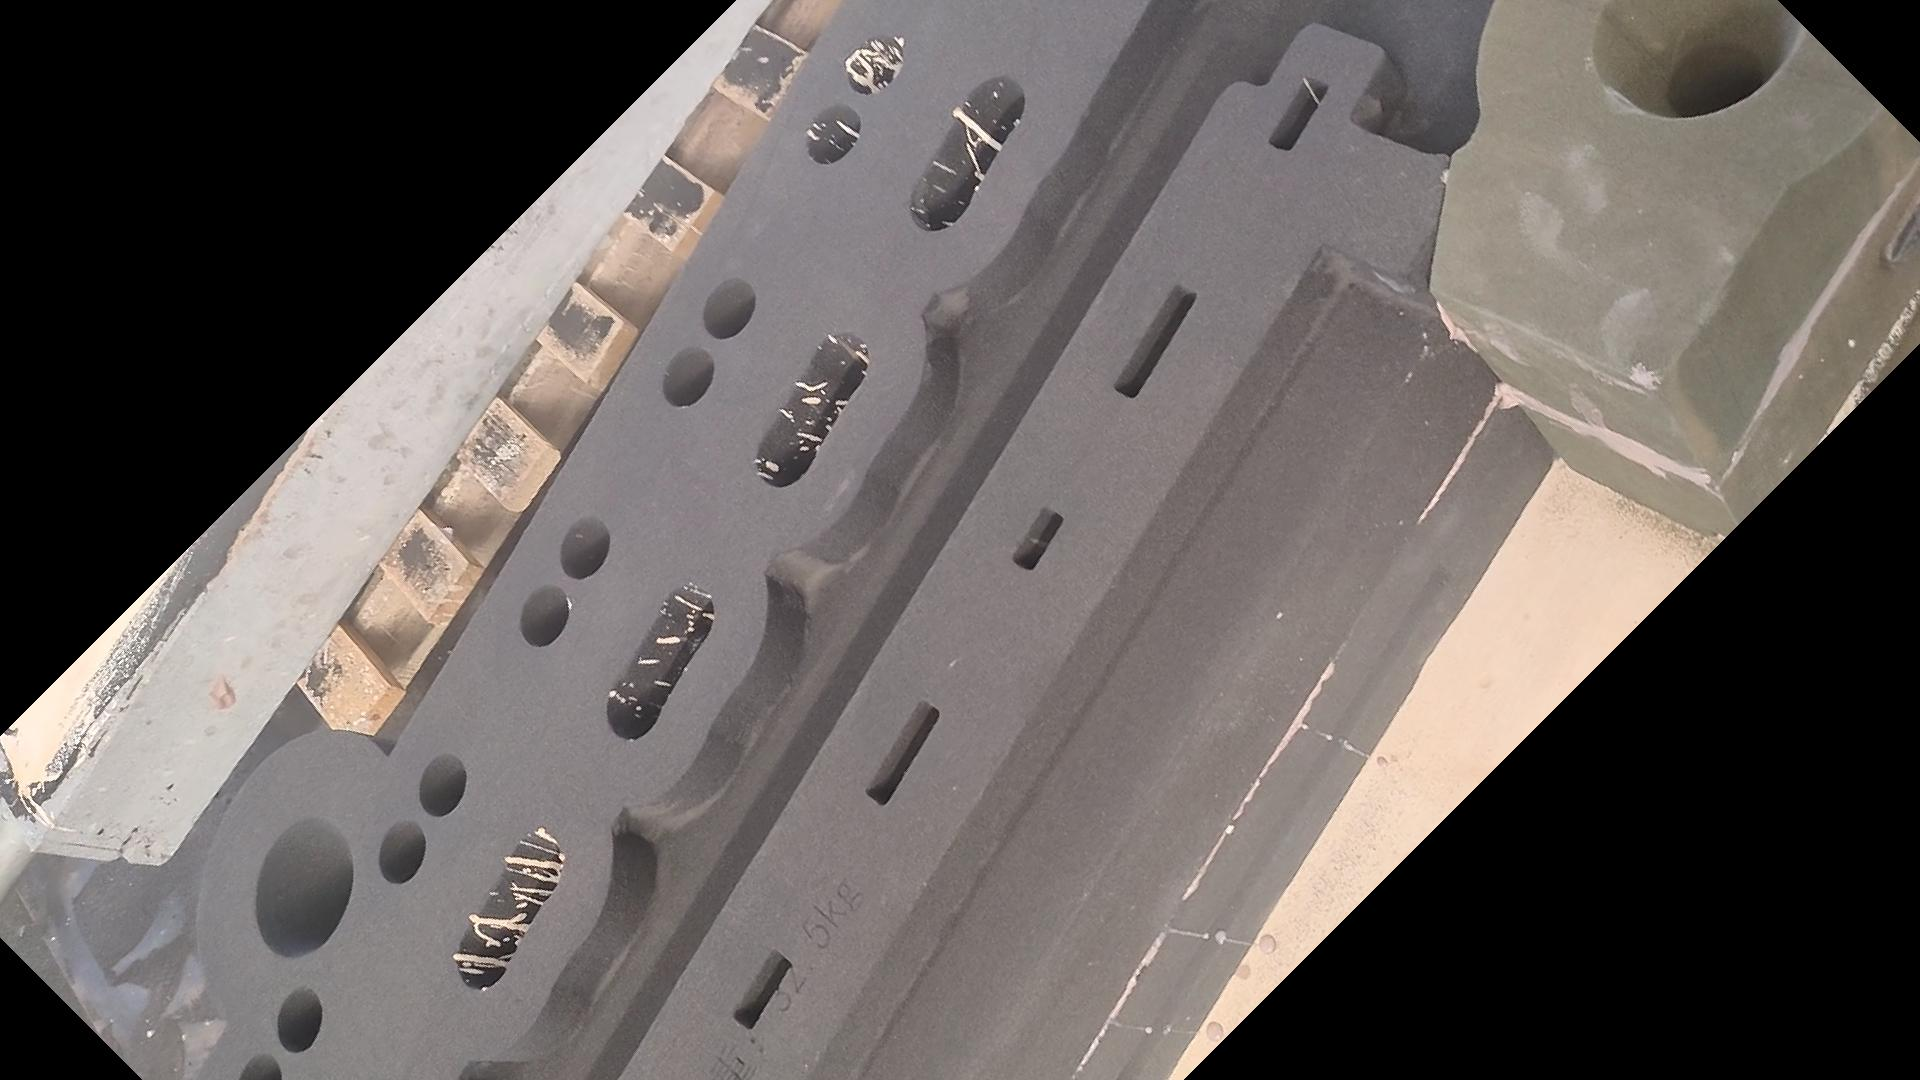pouring hole: (1589, 1, 1803, 119), (253, 818, 353, 957)
